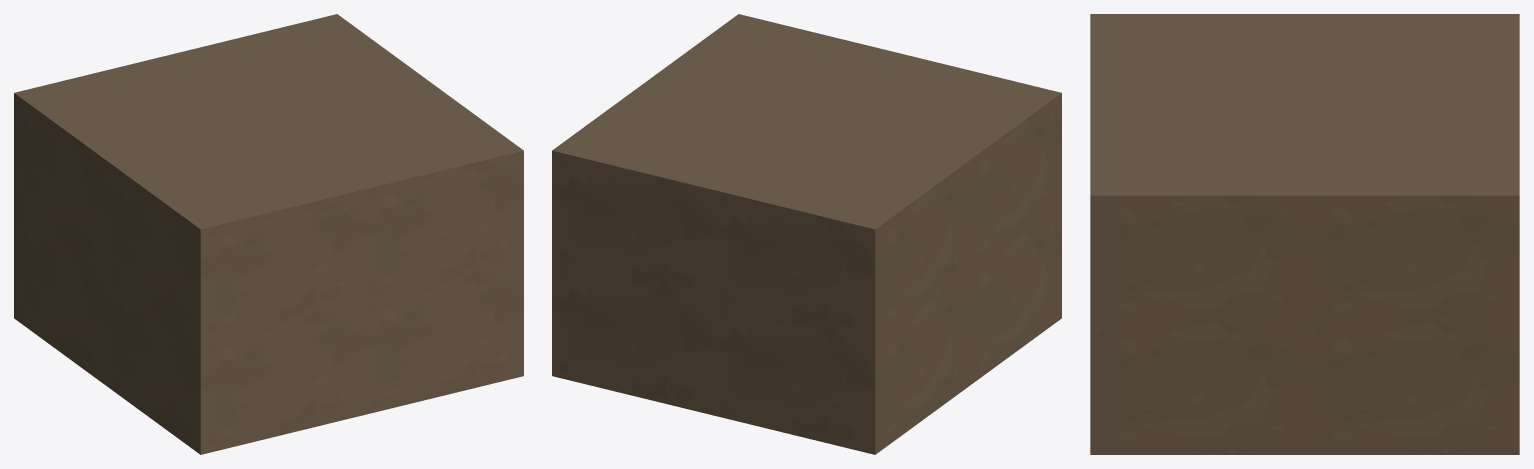
Rendered from Bock_F1.fbx.
3 views of the same model, side by side, from view 1: azimuth 30°, elevation 25°; view 2: azimuth 150°, elevation 25°; view 3: azimuth 270°, elevation 25° (orthographic). The views are drawn at different scales.
Visible parts, largest first — view 1: Bock_F1; view 2: Bock_F1; view 3: Bock_F1.
Part boxes in pixels (x1,y1,x2,y2): Bock_F1: (14, 14, 523, 454); Bock_F1: (552, 14, 1061, 454); Bock_F1: (1090, 14, 1519, 454).
Size of the model in its own units: 600 by 400 by 600.
